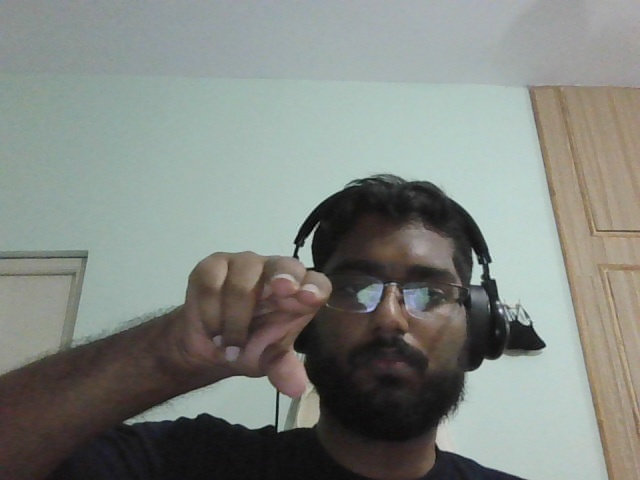No: (144, 242, 359, 414)
